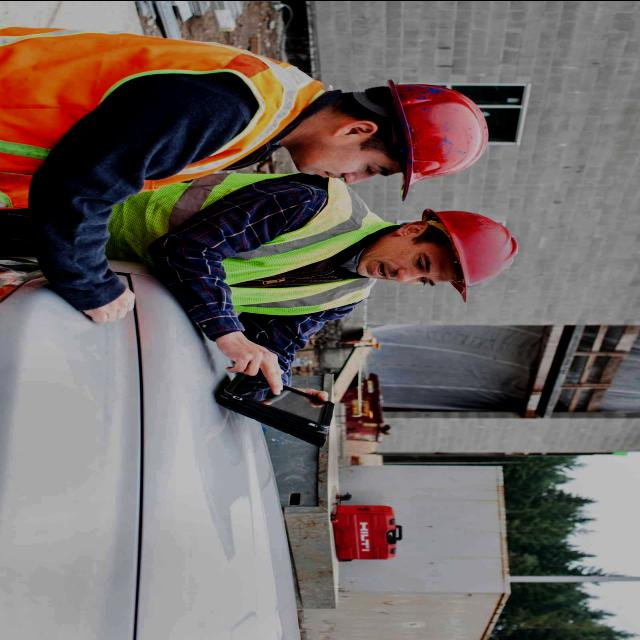Hard Hat: (373, 77, 495, 206), (418, 205, 523, 309)
Reflective Vest: (0, 23, 329, 214), (89, 172, 405, 320)
